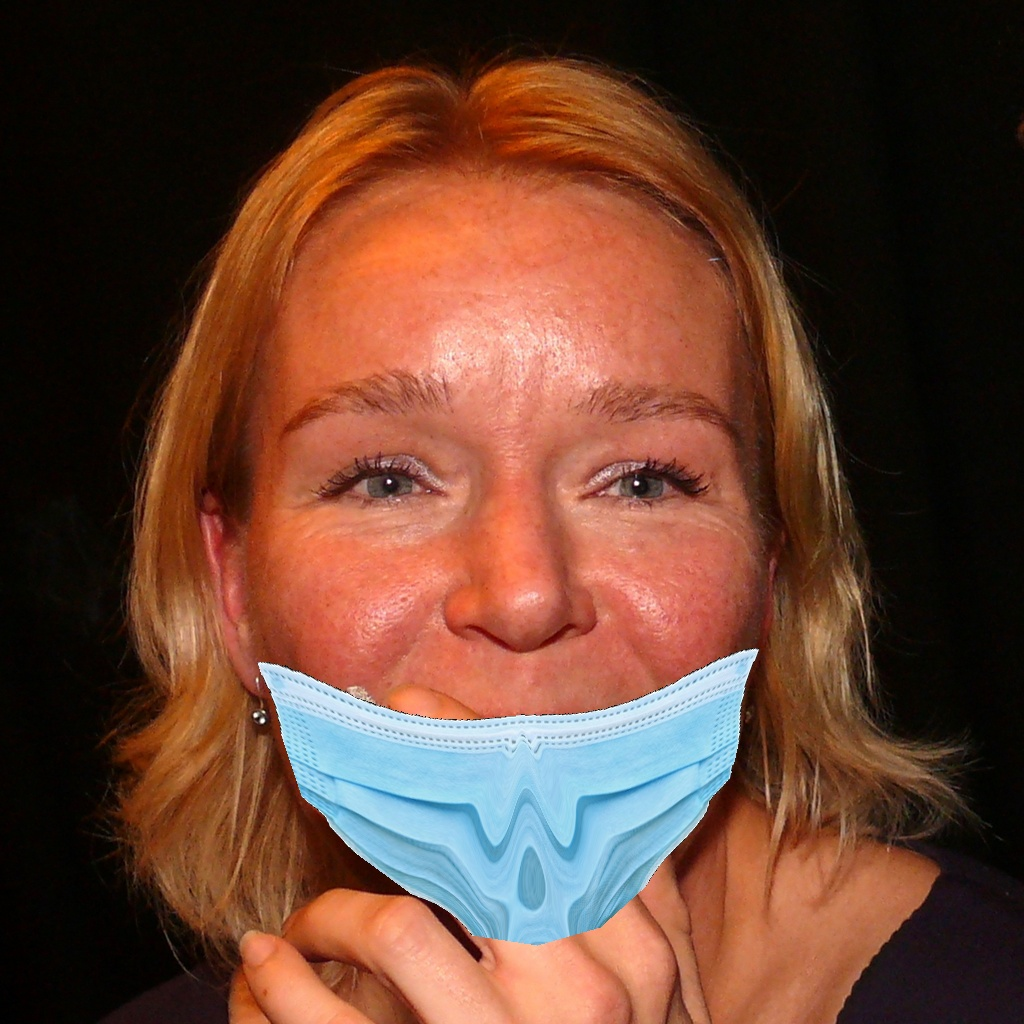mascarilla_mal_puesta: (221, 335, 771, 945)
